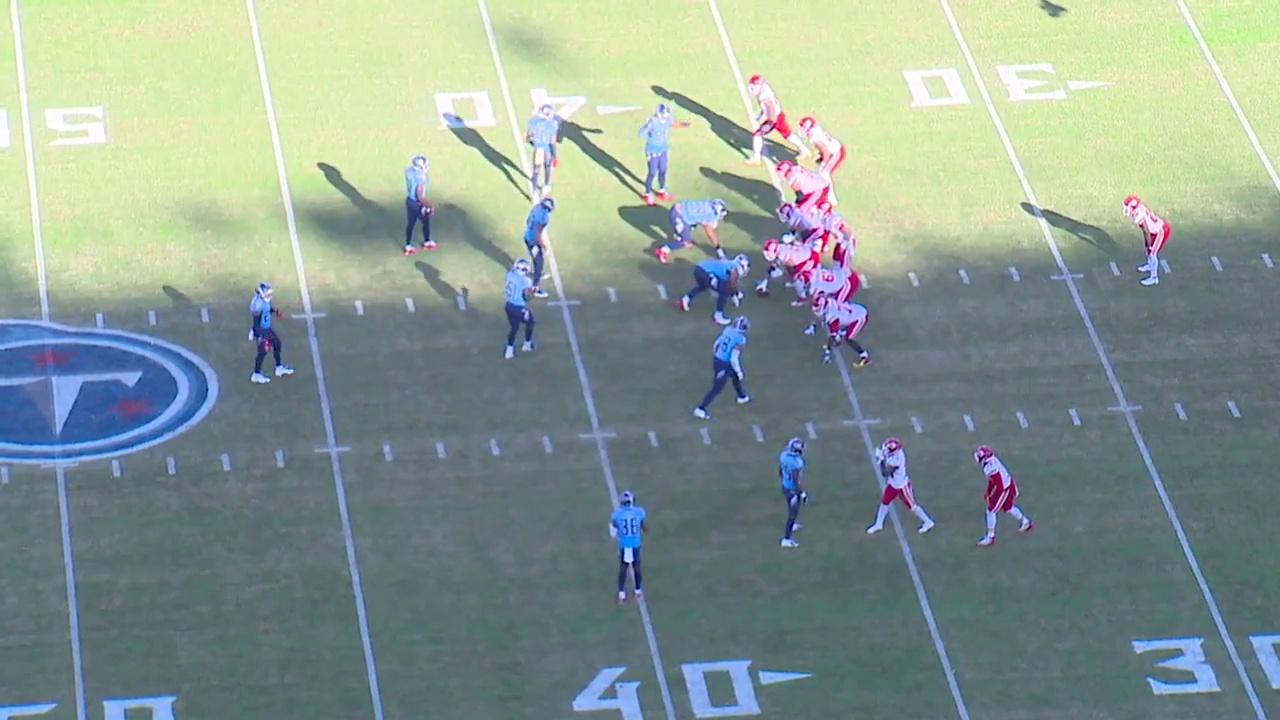defense: (689, 313, 757, 424), (635, 101, 696, 207), (676, 250, 753, 327), (604, 486, 651, 609), (651, 195, 731, 266), (246, 280, 298, 388), (773, 434, 814, 553), (499, 257, 542, 365), (400, 153, 443, 258), (523, 100, 565, 205), (521, 195, 557, 301)
oline: (811, 293, 875, 369), (754, 239, 821, 308), (798, 267, 860, 337), (775, 160, 831, 214), (774, 203, 827, 248)
qb: (814, 198, 859, 269)
skill: (864, 436, 937, 537), (971, 442, 1035, 548), (741, 73, 812, 168), (1120, 193, 1174, 289), (796, 114, 849, 208)
